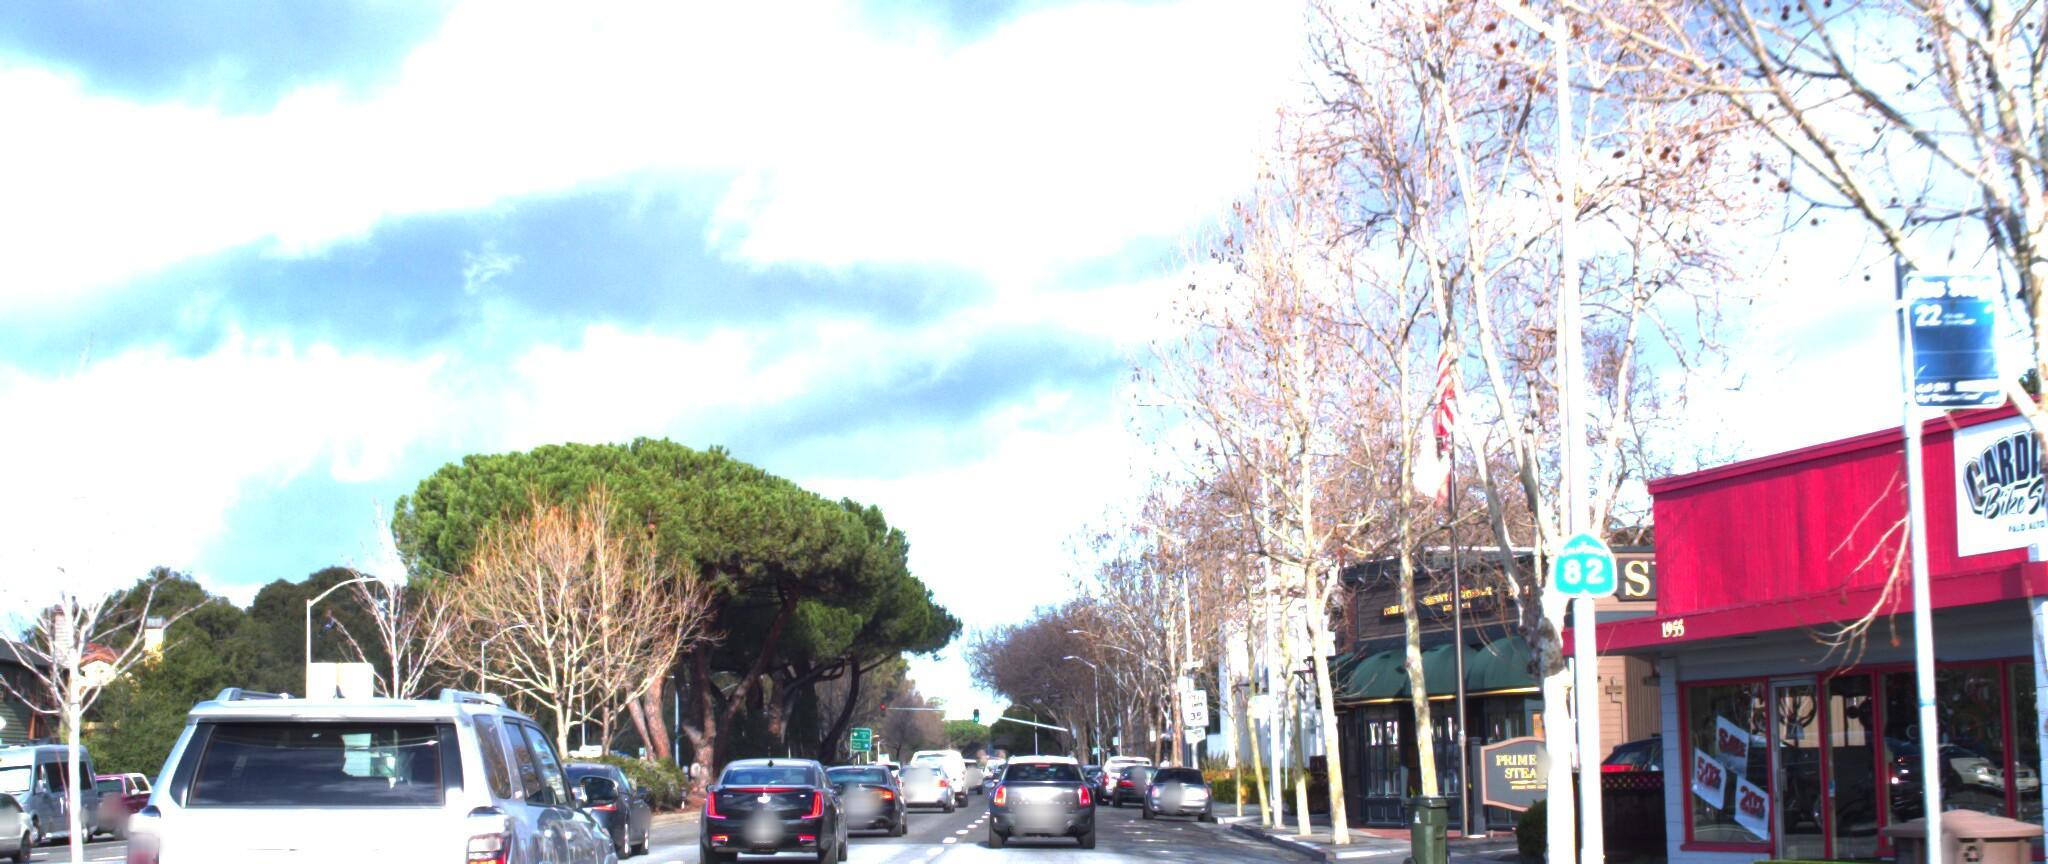car: (91, 664, 650, 864), (694, 753, 856, 863), (500, 748, 660, 854), (980, 743, 1093, 841), (801, 767, 906, 844), (0, 777, 56, 864), (1135, 744, 1209, 808)
